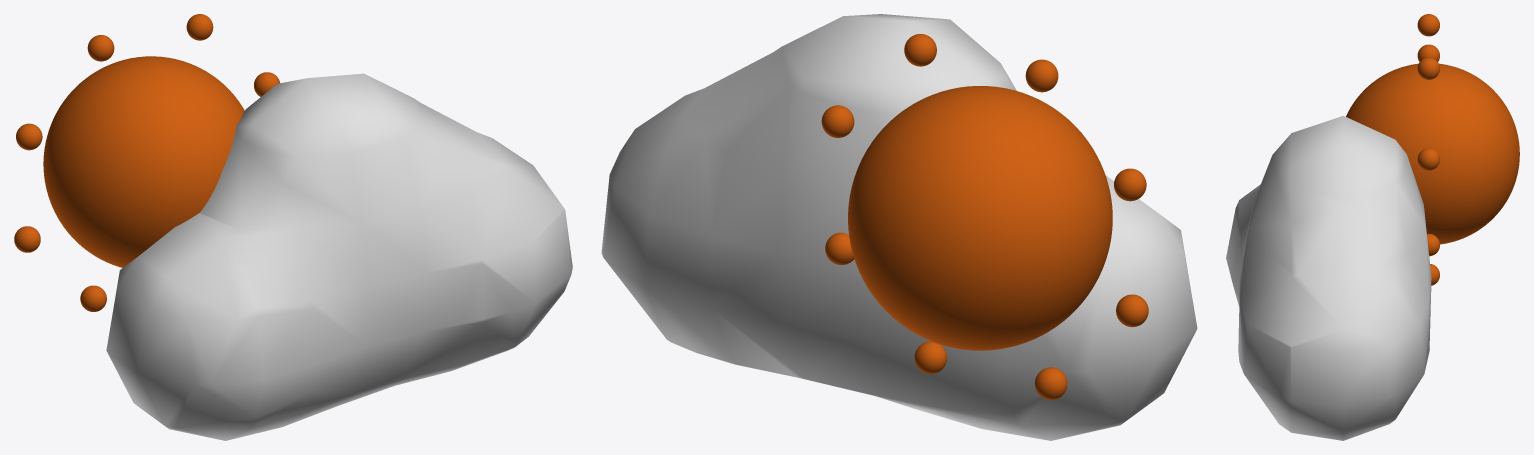
The picture shows the model from 3 angles, left to right: view 1: azimuth 30°, elevation 25°; view 2: azimuth 150°, elevation 25°; view 3: azimuth 270°, elevation 25°; orthographic projection. The views are drawn at different scales.
Parts seen in each view (by area): view 1: Mball, Sun_cloudy, Light_cloudy; view 2: Mball, Sun_cloudy, Light_cloudy; view 3: Mball, Sun_cloudy, Light_cloudy.
Boxes of the visible parts, box(x1,y1,x2,y2) form: Mball: box(106, 73, 572, 440); Sun_cloudy: box(43, 56, 244, 267); Light_cloudy: box(14, 14, 279, 311); Mball: box(601, 14, 1197, 440); Sun_cloudy: box(848, 86, 1112, 350); Light_cloudy: box(821, 34, 1148, 399); Mball: box(1226, 115, 1431, 440); Sun_cloudy: box(1346, 63, 1519, 244); Light_cloudy: box(1417, 14, 1439, 285).
Size of the model in its own units: 35.95 by 25.49 by 22.27.
